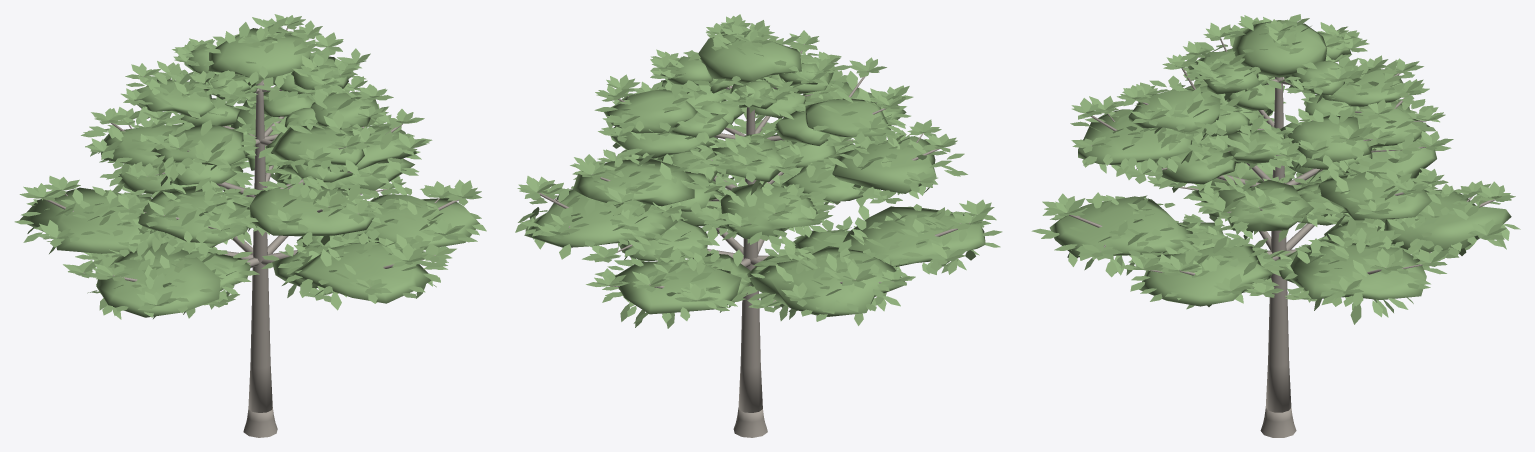
File: amendoeira-de-orla.glb
3 views of the same model, side by side, from view 1: azimuth 30°, elevation 25°; view 2: azimuth 150°, elevation 25°; view 3: azimuth 270°, elevation 25° (orthographic). The views are drawn at different scales.
Visible parts, largest first — view 1: dn_calcadao_amendoeira_copa; view 2: dn_calcadao_amendoeira_copa; view 3: dn_calcadao_amendoeira_copa.
Part boxes in pixels (x1,y1,x2,y2): dn_calcadao_amendoeira_copa: (14, 14, 486, 437); dn_calcadao_amendoeira_copa: (515, 14, 1002, 437); dn_calcadao_amendoeira_copa: (1031, 14, 1520, 437).
Bounding box in the file's own units: 7.23 × 7 × 7.61.
